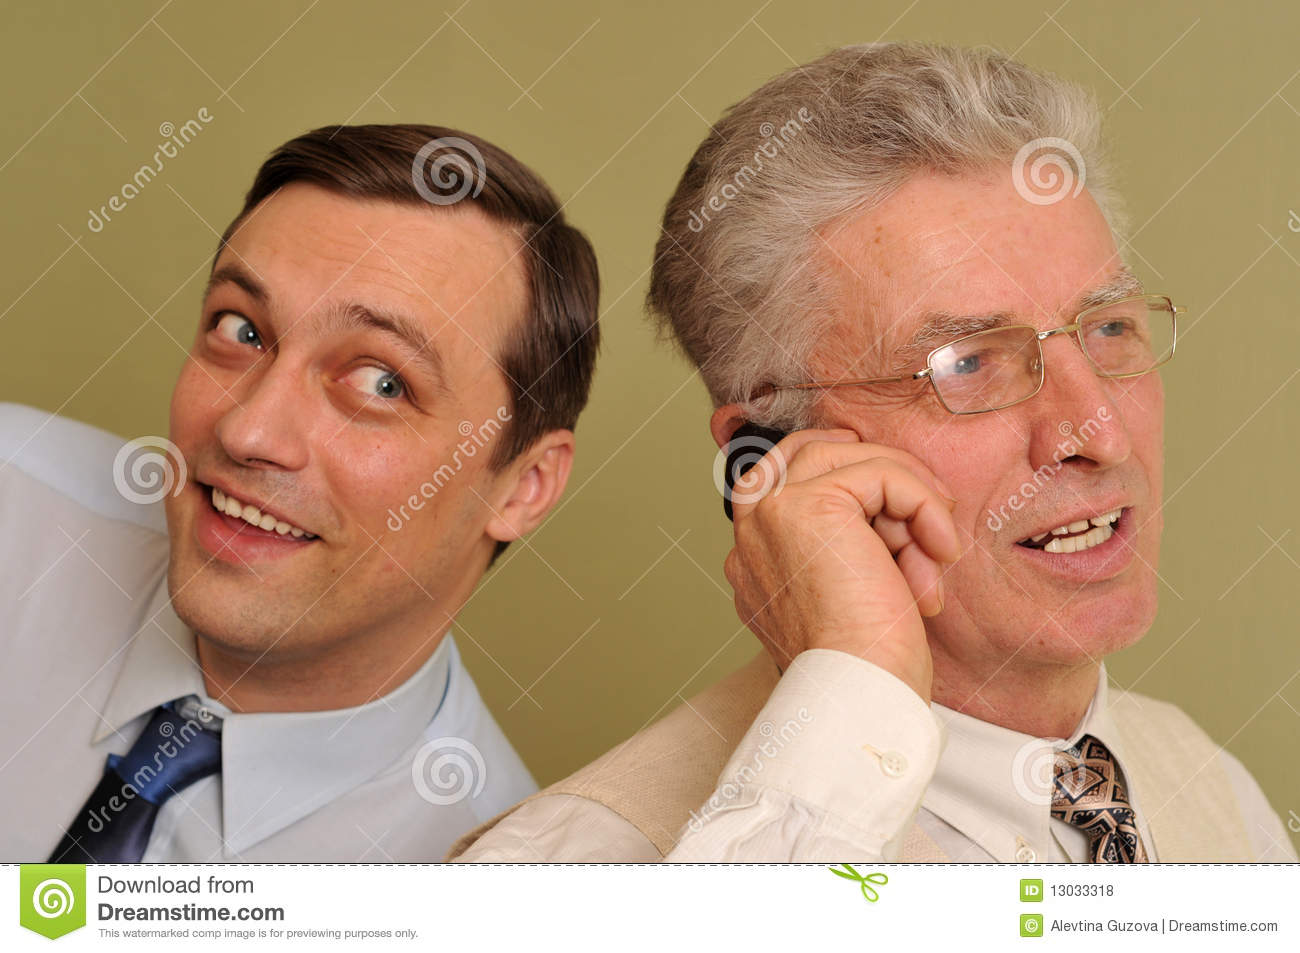phone: (729, 424, 930, 612)
talk: (715, 271, 1176, 724)
